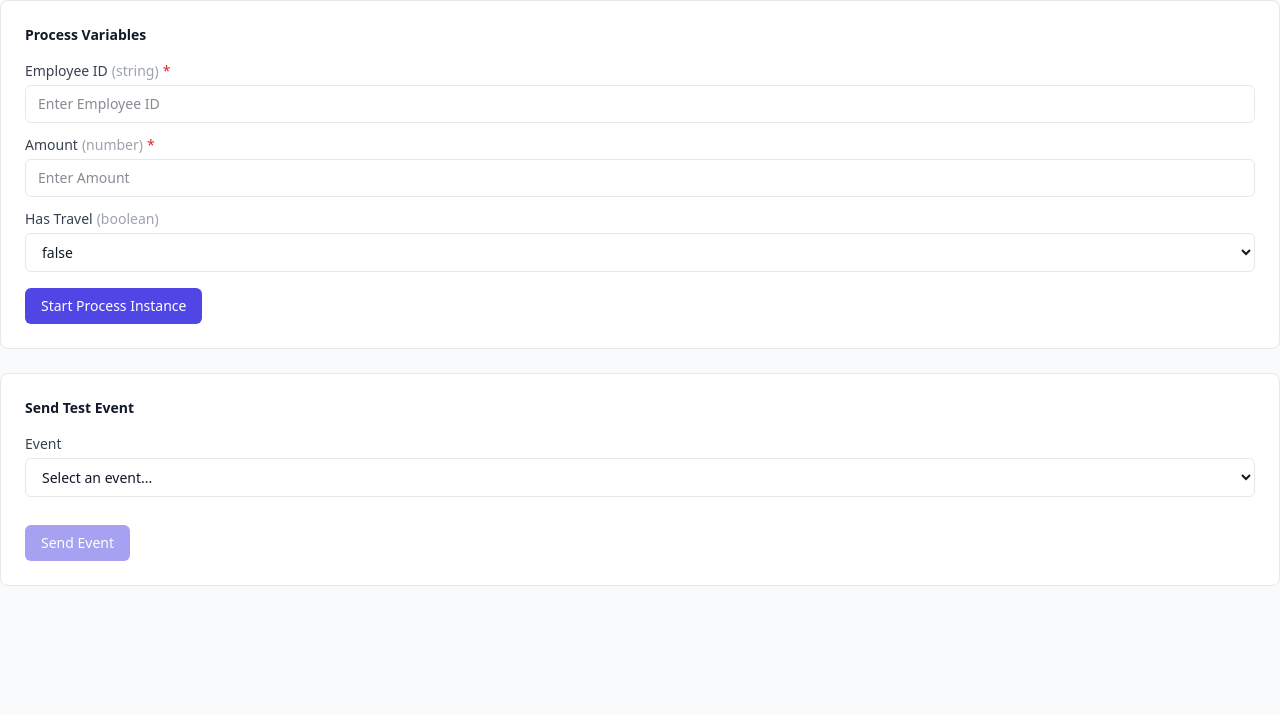
it: SpawnForm › sends test event when send button clicked
This screenshot has width=1280, height=714.
Select "Expense Submitted (expense-submitted)" in the dropdown below "Send Test Event" at (640, 478), box x1=25 y1=458 x2=1255 y2=497
(page scrolled)
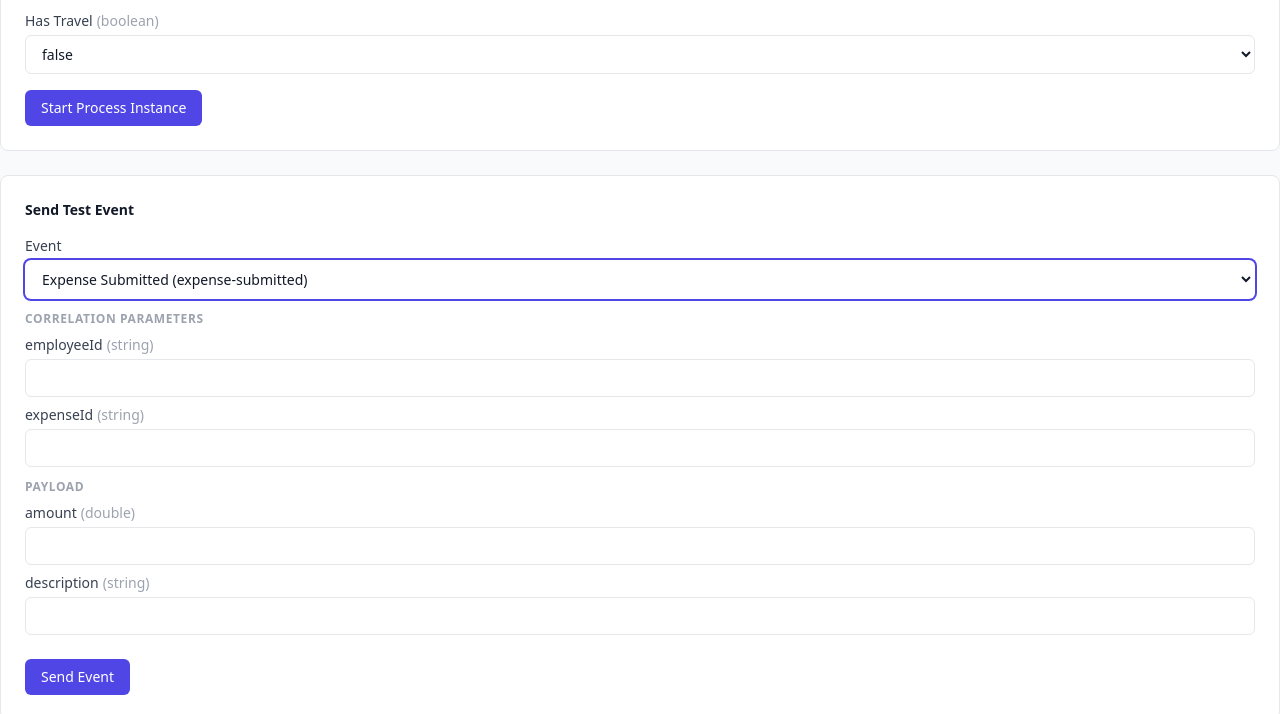
Click the button "Send Event".
click(78, 677)  # box x1=25 y1=659 x2=130 y2=695
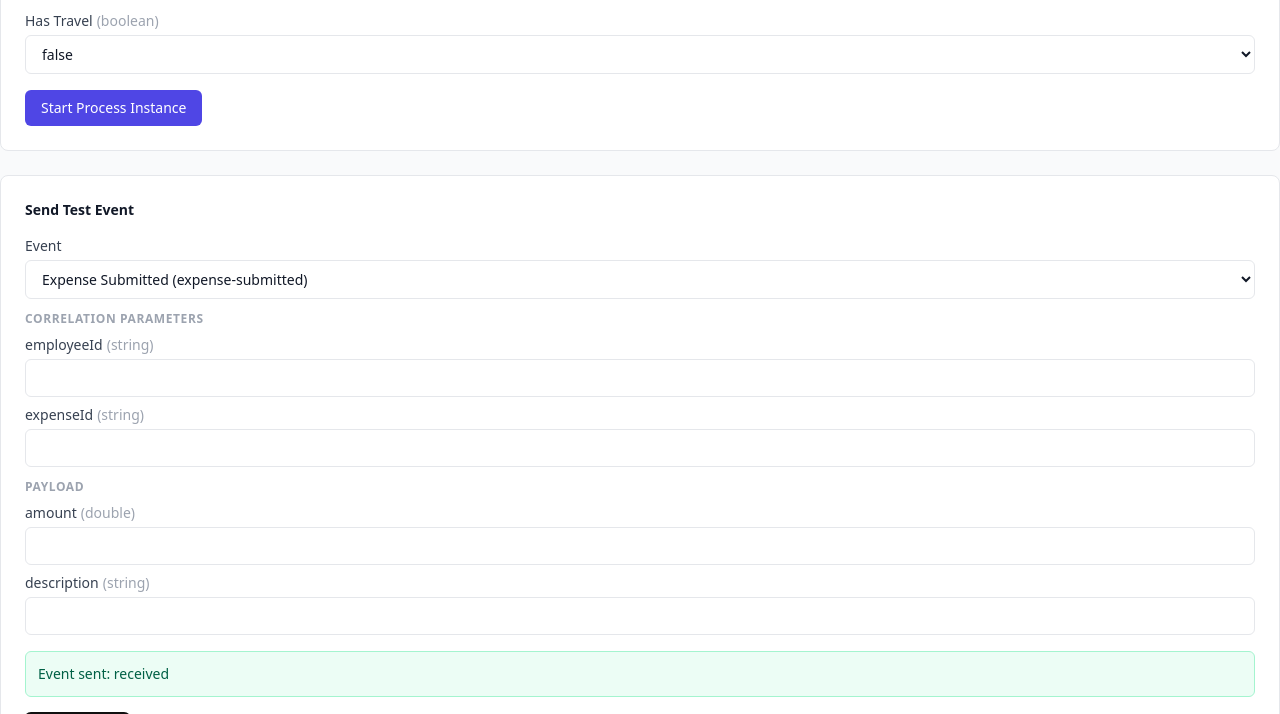
Result: the text "Event sent: received" is shown at x1=38 y1=664 x2=169 y2=683
